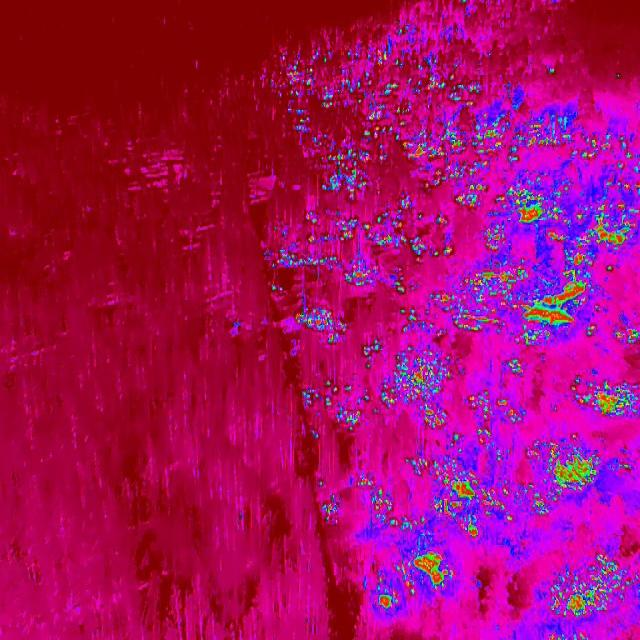fire: (270, 31, 502, 215), (263, 210, 452, 350), (454, 259, 607, 355), (501, 164, 640, 265), (406, 428, 510, 542), (522, 434, 636, 518), (504, 106, 610, 168), (380, 348, 450, 434), (544, 554, 630, 620), (372, 548, 456, 614), (569, 368, 640, 420), (302, 379, 371, 432), (463, 389, 522, 429), (358, 478, 395, 528), (316, 493, 346, 532), (477, 224, 509, 258), (612, 321, 640, 348), (503, 356, 527, 375), (546, 631, 588, 640)
